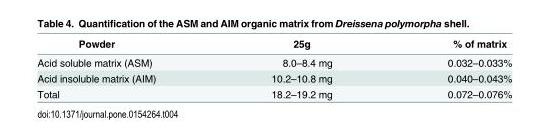table: (36, 37, 511, 99)
table column: (212, 37, 389, 99), (36, 37, 212, 99), (389, 37, 511, 99)
table column header: (36, 37, 511, 52)
table row: (36, 52, 511, 70), (36, 37, 511, 52), (36, 70, 511, 85), (36, 85, 511, 99)
